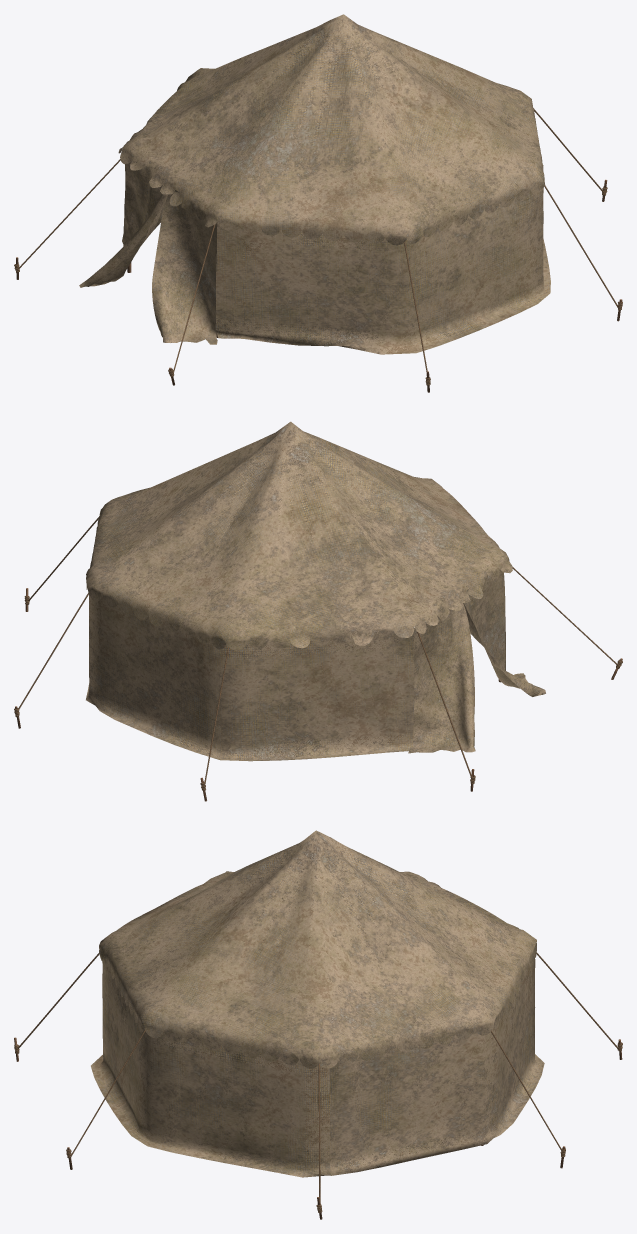
The model's file is SM_Tent_A.fbx.
The picture shows the model from 3 angles, top to bottom: view 1: azimuth 30°, elevation 25°; view 2: azimuth 150°, elevation 25°; view 3: azimuth 270°, elevation 25°; orthographic projection. The views are drawn at different scales.
Parts seen in each view (by area): view 1: SM_Tent_A_LOD0; view 2: SM_Tent_A_LOD0; view 3: SM_Tent_A_LOD0.
Part boxes in pixels (left/top/right/bottom): SM_Tent_A_LOD0: left=14, top=14, right=622, bottom=392; SM_Tent_A_LOD0: left=14, top=421, right=622, bottom=801; SM_Tent_A_LOD0: left=14, top=830, right=622, bottom=1219.
Size of the model in its own units: 1133 by 1120 by 532.
Materials: 3 (3 with a texture image).
